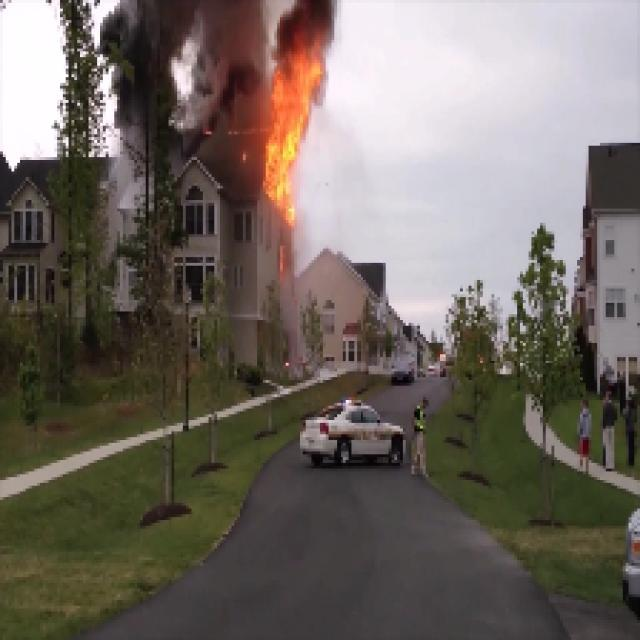Fire: (266, 45, 322, 200)
Smoke: (109, 0, 244, 147), (282, 0, 328, 37)
